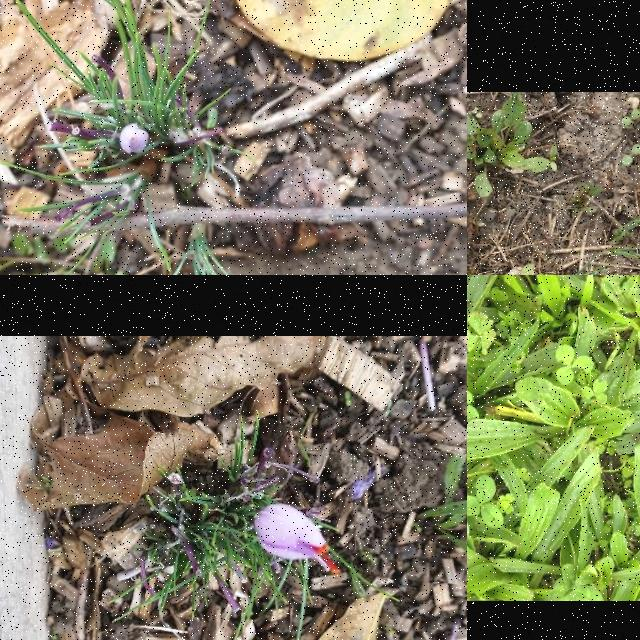flower: (254, 504, 340, 576), (120, 122, 148, 156)
